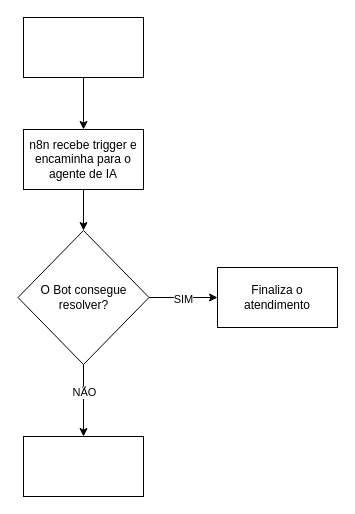
This 355x514 diagram has some shape labels left out. Here are the shapes that lost their labels. From the top down, the centre of each, then its label:
point (83, 47): Cliente envia mensagem via WhatsApp, Web (chat) ou Telegram
point (83, 466): Deriva para atendimento humano
